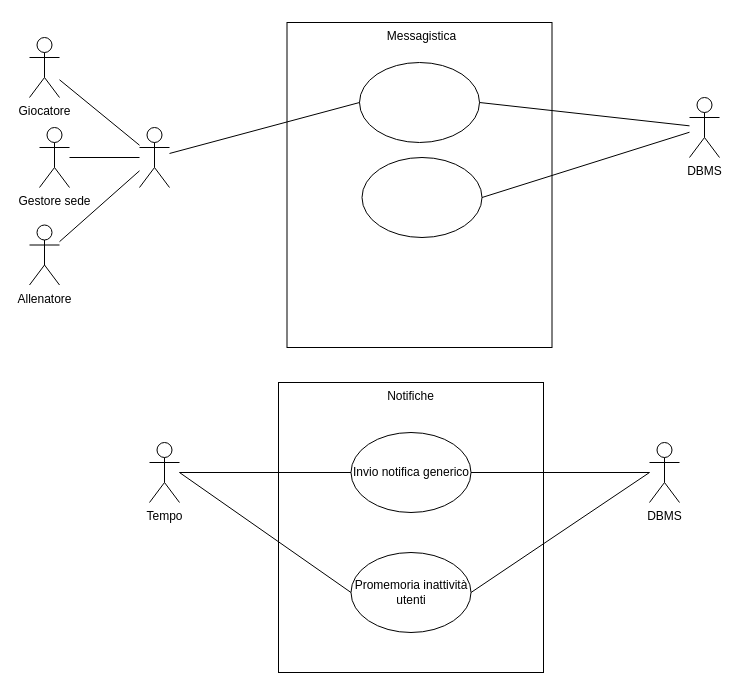
Image size: 739x690. Some labels were removed from this diagram. Each missing label, with the centre of its shape:
Creazione gruppo: point 421,197
Scambio messaggi: point 419,102
Utente: point 154,157
